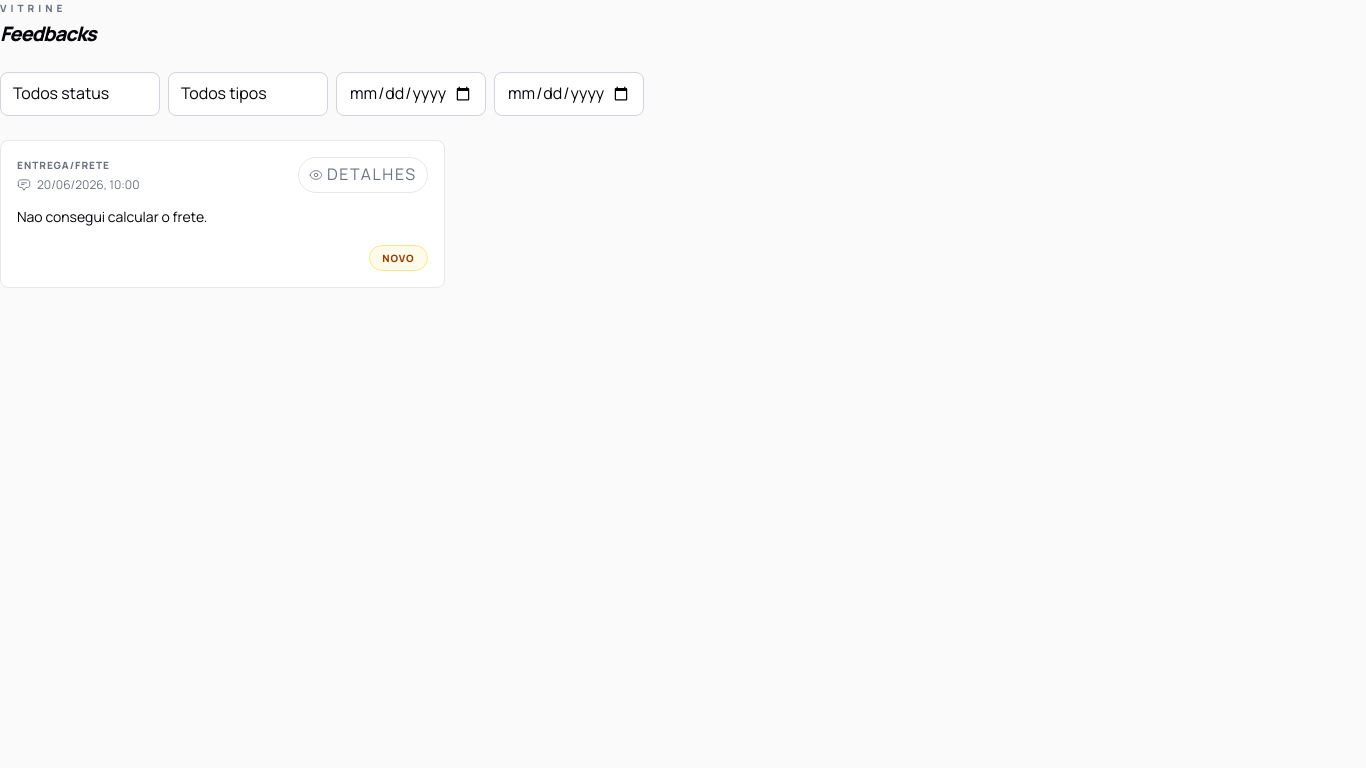
Test: DashboardFeedbackView › disables the status select for a dashboard reader without write access
Click the button "Detalhes": (363, 175) [298, 157, 428, 193]
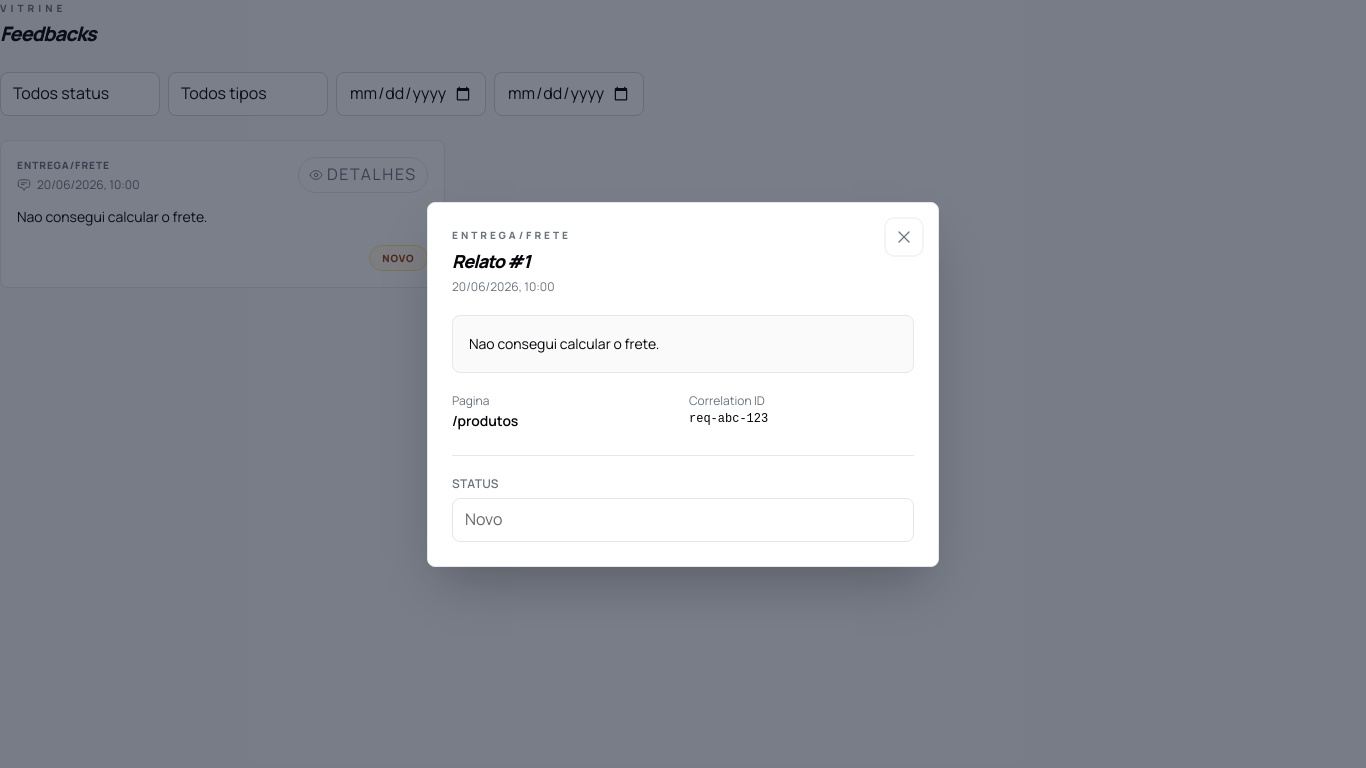
Expected: the dropdown labelled "Status" is disabled, [452, 498, 914, 542]
